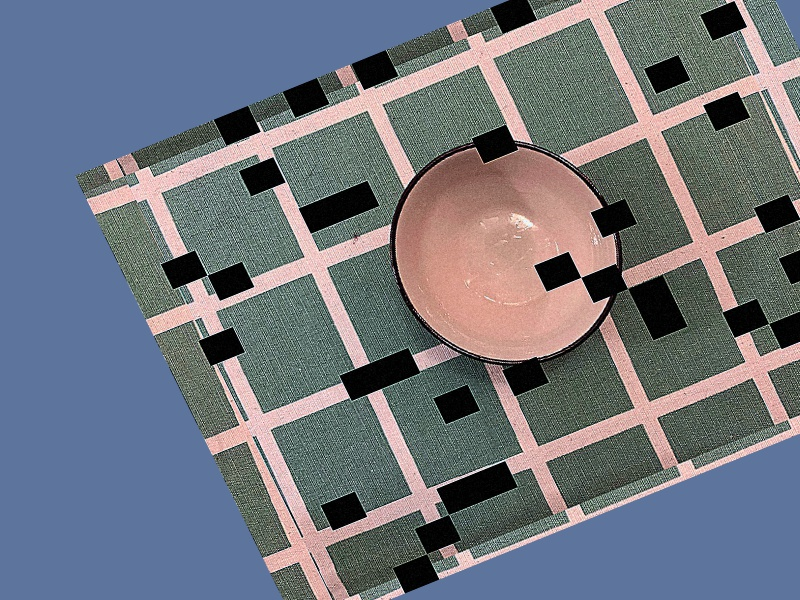bowl_small: (340, 98, 671, 408)
